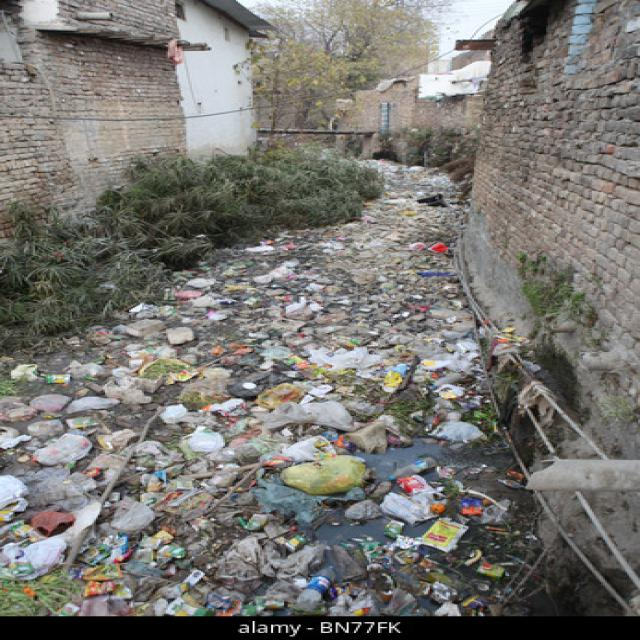trash: (135, 229, 450, 466), (20, 456, 146, 586)
